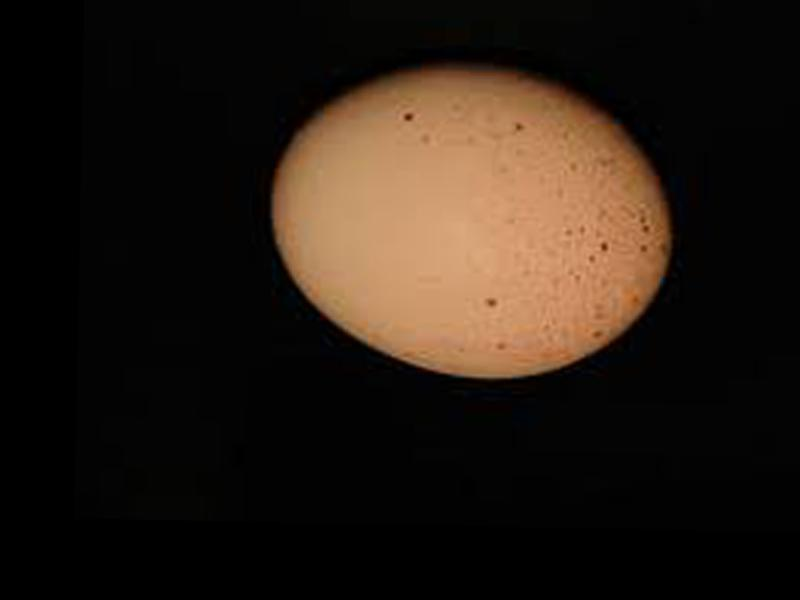Eggs: (267, 57, 672, 380)
